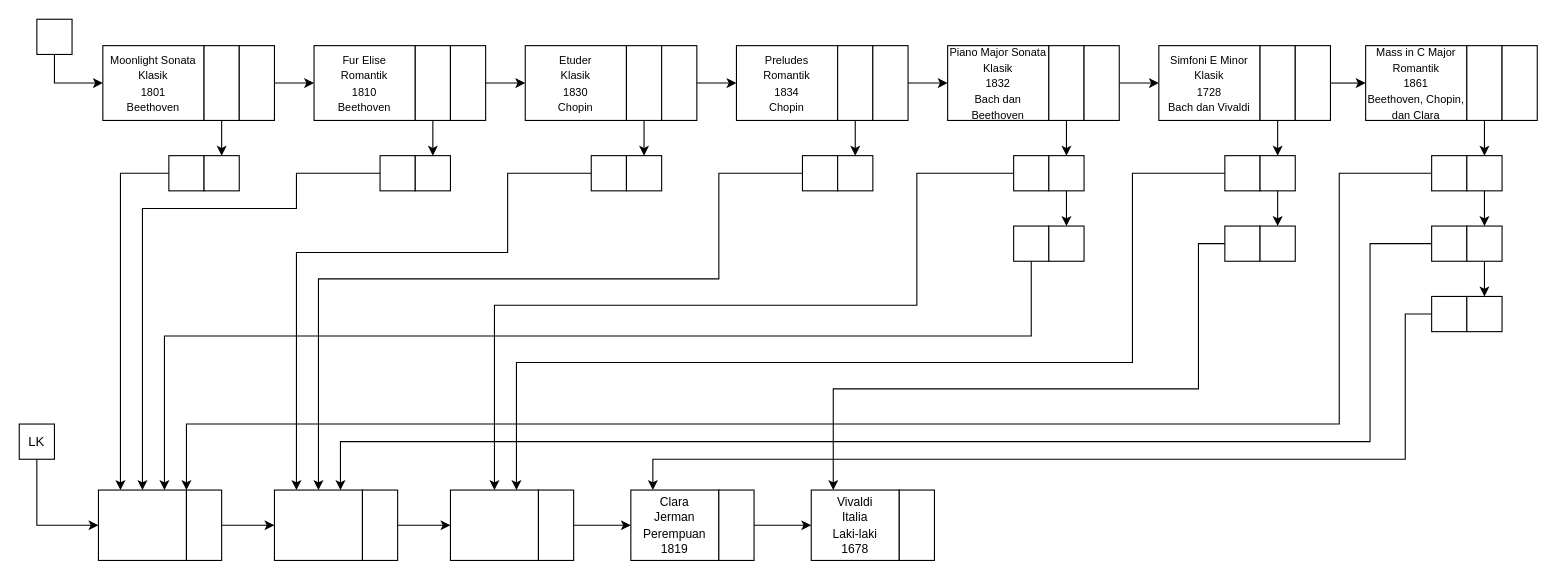
Some shapes in this 1557 by 580 pixel diagram are drawn without their labels. Each missing label, with the centre of its shape:
Bach Jerman Laki-laki 1685: [493,524]
Beethoven Jerman Laki-laki 1770: [141,524]
Chopin Polandia Laki-laki 1810: [317,524]
LM: [54,36]
